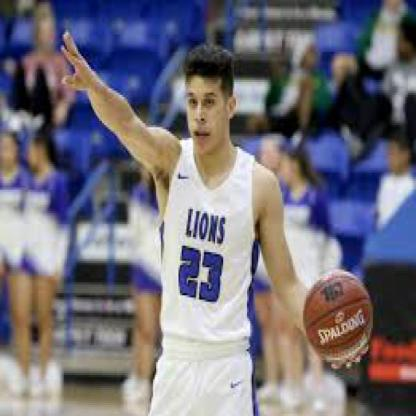basketball: (304, 268, 372, 364)
